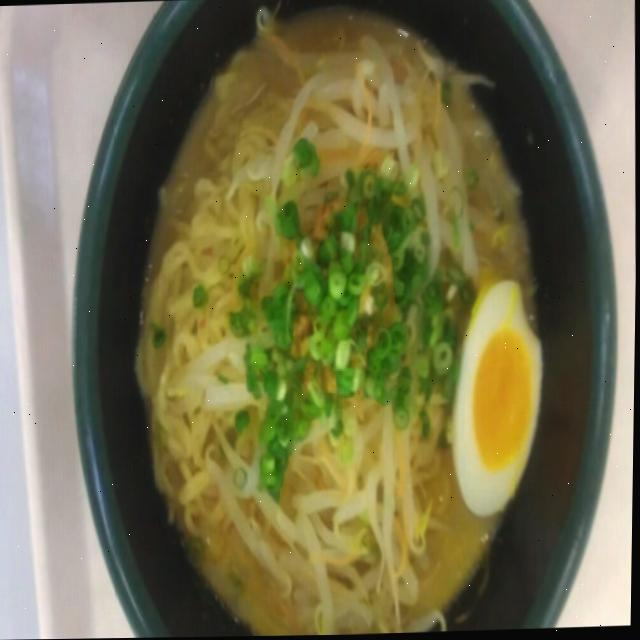面条主食: (58, 8, 625, 639)
